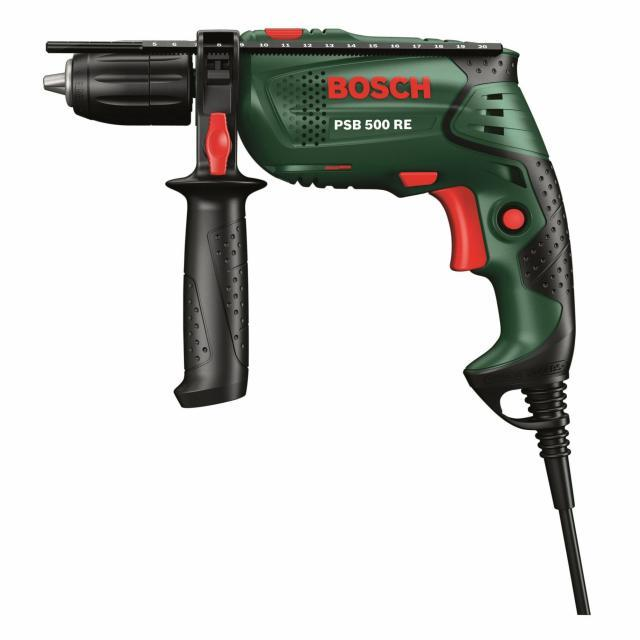drill: (42, 28, 576, 510)
